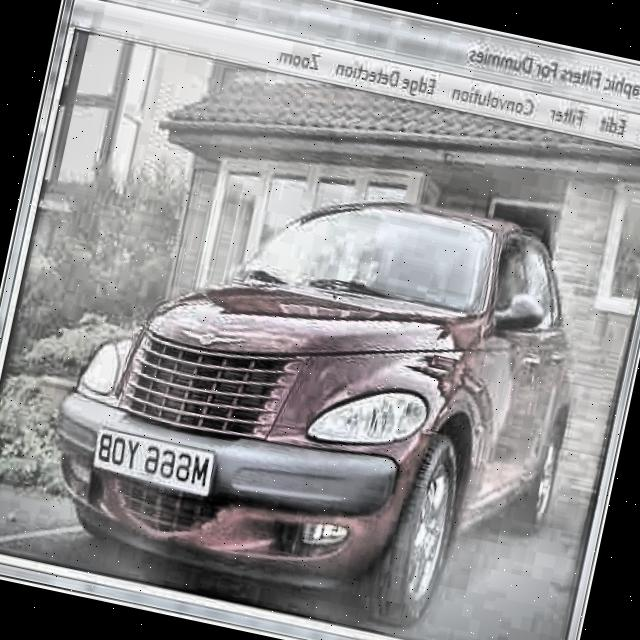license_plate: (86, 424, 217, 498)
